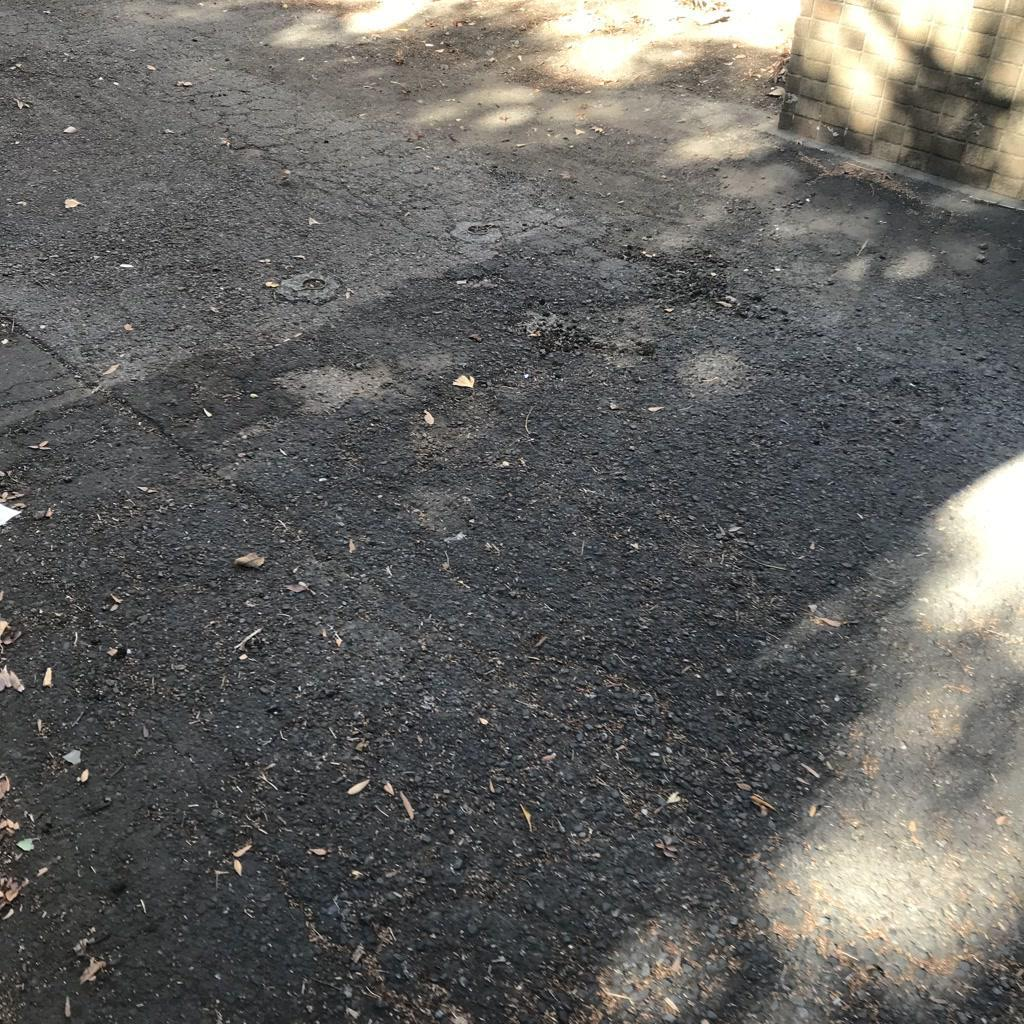D20: (211, 77, 700, 285)
D40: (262, 342, 405, 416)
